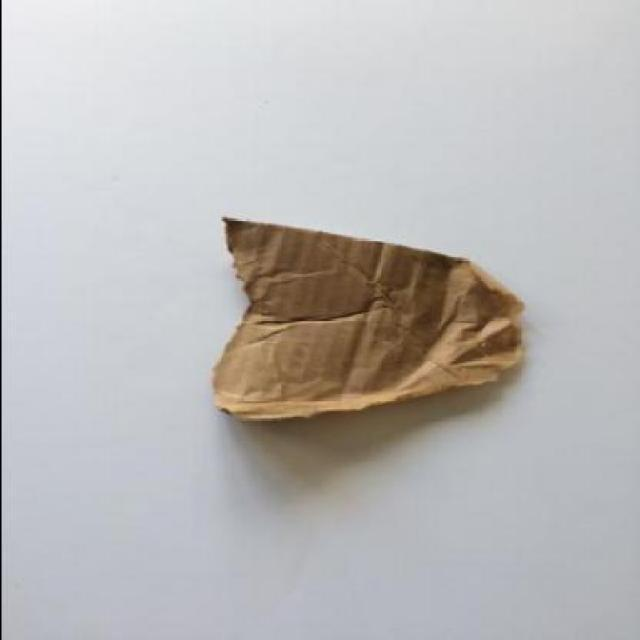box: (209, 217, 526, 420)
